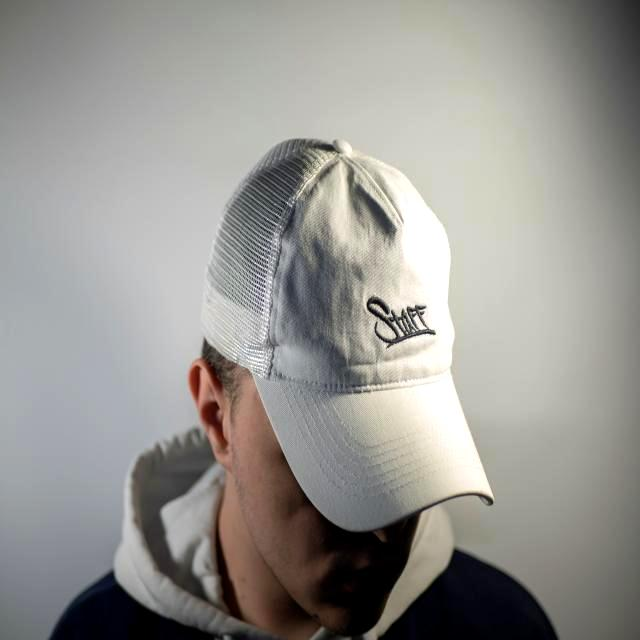no_hard_hat: (203, 139, 493, 530)
person: (39, 139, 559, 640)
